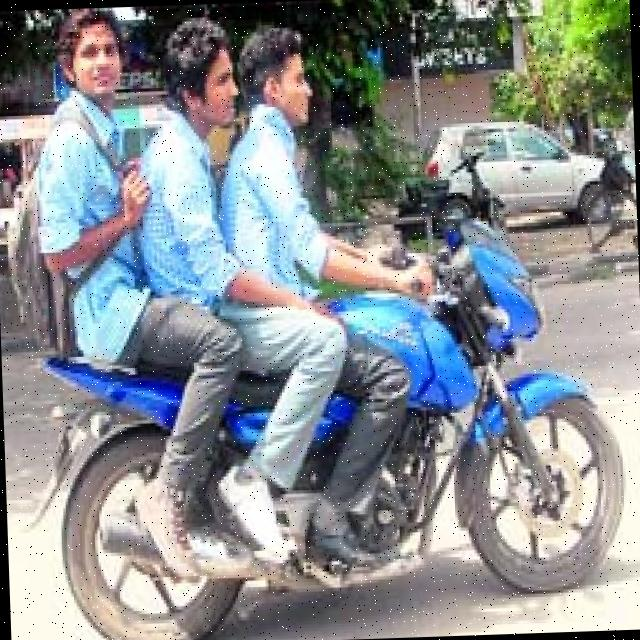No helmet: (239, 25, 324, 128)
Triple riding: (31, 0, 374, 389)
